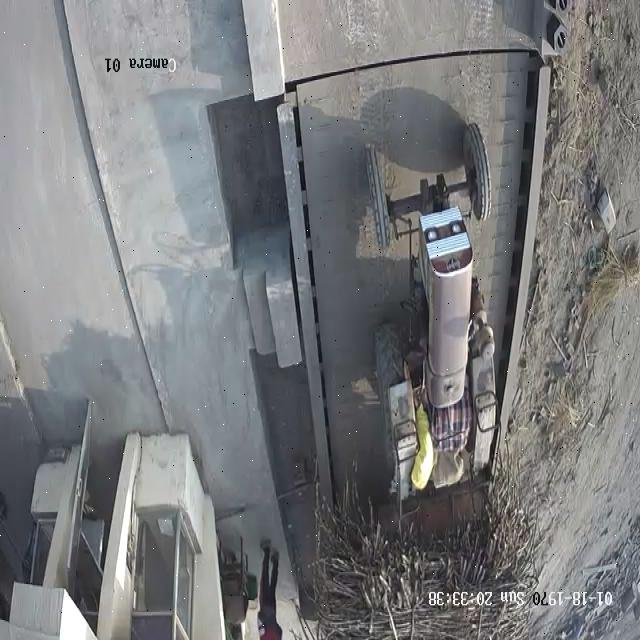Tratores - v5 YOLO V8L 2024-11-13: (352, 112, 499, 502)
